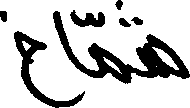ا: (50, 7, 77, 69)
خ: (0, 9, 44, 105)
ش: (116, 0, 188, 80)
م: (91, 0, 129, 84)
